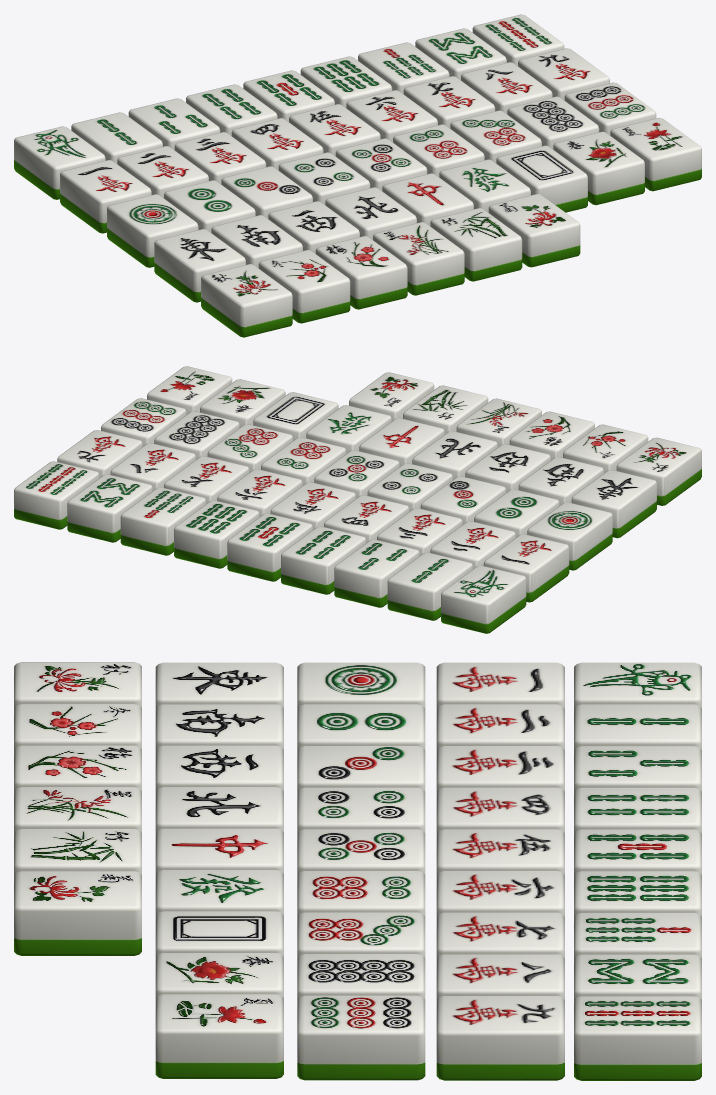
File: mjModelGroup.FBX
3 renders of one model, top to bottom at view 1: azimuth 30°, elevation 25°; view 2: azimuth 150°, elevation 25°; view 3: azimuth 270°, elevation 25°, orthographic. The views are drawn at different scales.
Visible parts, largest first — view 1: mj_hua_qiu, mj_hua_ju, mj_hua_zhu, mj_hua_dong, mj_hua_mei, mj_hua_lan, mj_hua_chun, mj_hua_xia, mj_tong_001, mj_feng_dong, mj_wang_001, mj_tiao_001 (+30 smaller); view 2: mj_tiao_001, mj_tiao_006, mj_tiao_008, mj_tiao_002, mj_tiao_003, mj_tiao_005, mj_tiao_007, mj_tiao_004, mj_tiao_009, mj_hua_qiu, mj_feng_dong, mj_tong_001 (+30 smaller); view 3: mj_wang_009, mj_tong_009, mj_hua_xia, mj_tiao_009, mj_hua_ju, mj_wang_001, mj_tong_001, mj_wang_004, mj_tong_004, mj_tong_006, mj_hua_chun, mj_hua_zhu (+30 smaller).
Part boxes in pixels (x1,y1,x2,y2): mj_hua_qiu: (201, 264, 292, 337); mj_hua_ju: (488, 194, 580, 267); mj_hua_zhu: (430, 208, 522, 281); mj_hua_dong: (258, 250, 350, 323); mj_hua_mei: (315, 236, 407, 309); mj_hua_lan: (373, 222, 464, 295); mj_hua_chun: (553, 131, 644, 205); mj_hua_xia: (610, 117, 701, 191); mj_tong_001: (107, 194, 198, 267); mj_feng_dong: (154, 229, 245, 302); mj_wang_001: (60, 160, 151, 233); mj_tiao_001: (14, 126, 105, 199); mj_tiao_001: (441, 565, 526, 633); mj_tiao_006: (174, 500, 259, 568); mj_tiao_008: (67, 474, 152, 542); mj_tiao_002: (387, 552, 472, 620); mj_tiao_003: (334, 539, 419, 607); mj_tiao_005: (227, 513, 312, 581); mj_tiao_007: (120, 487, 205, 555); mj_tiao_004: (281, 526, 366, 594); mj_tiao_009: (14, 461, 99, 529); mj_hua_qiu: (616, 437, 701, 505); mj_feng_dong: (571, 469, 656, 538); mj_tong_001: (527, 502, 612, 570); mj_wang_009: (436, 995, 564, 1080); mj_tong_009: (297, 995, 425, 1080); mj_hua_xia: (155, 994, 283, 1078); mj_tiao_009: (574, 996, 701, 1080); mj_hua_ju: (14, 871, 141, 955); mj_wang_001: (436, 662, 564, 708); mj_tong_001: (297, 662, 425, 707); mj_wang_004: (436, 787, 564, 832); mj_tong_004: (297, 787, 425, 832); mj_tong_006: (297, 870, 425, 915); mj_hua_chun: (155, 952, 283, 997); mj_hua_zhu: (14, 829, 141, 874).
Size of the model in its own units: 25.42 by 1.6 by 19.87.
Materials: 1 (1 with a texture image).
